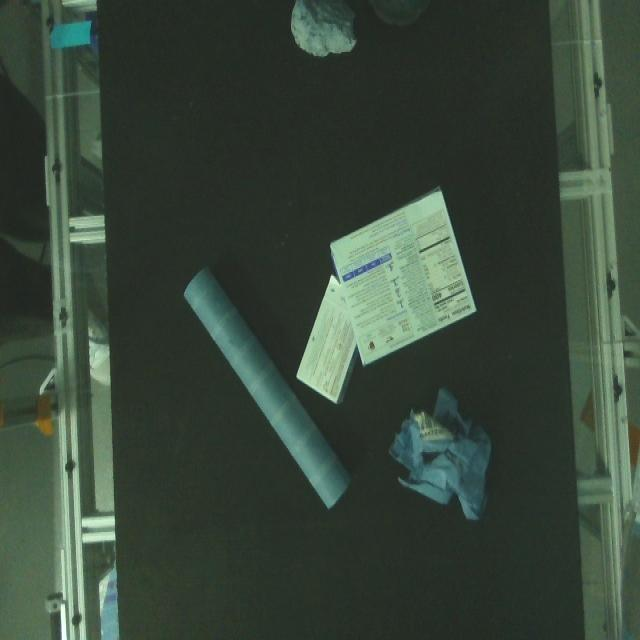non-paper: (285, 0, 365, 61)
paper: (181, 258, 360, 519), (318, 182, 484, 368), (378, 378, 500, 536), (293, 271, 366, 408)
